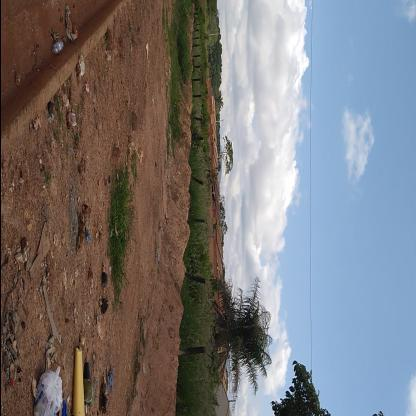lixo: (37, 354, 108, 415)
